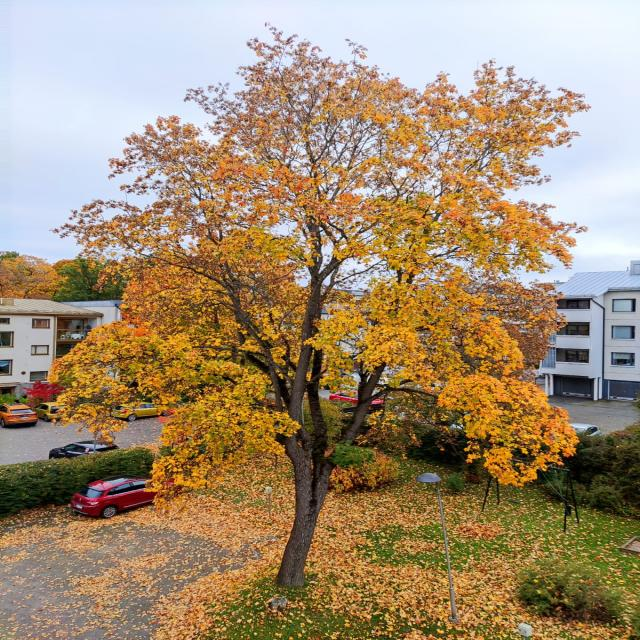Tree-detection: (38, 16, 594, 601)
